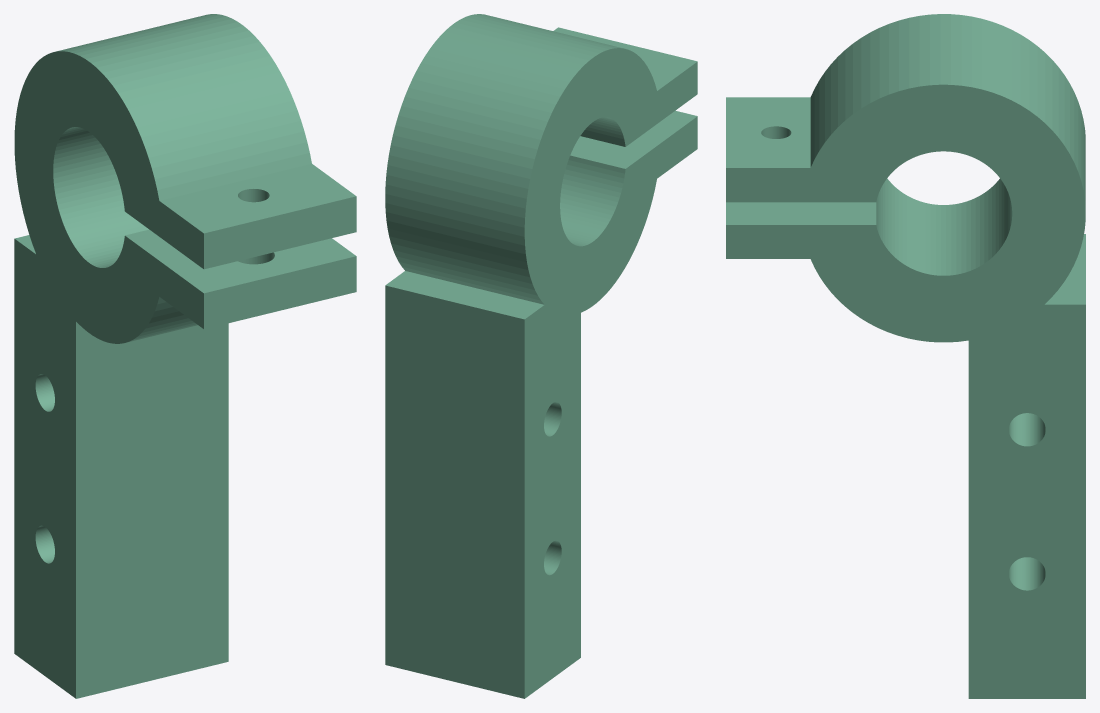
The picture shows the model from 3 angles, left to right: view 1: azimuth 30°, elevation 25°; view 2: azimuth 150°, elevation 25°; view 3: azimuth 270°, elevation 25°; orthographic projection. The views are drawn at different scales.
Visible parts, largest first — view 1: W14_limit_switch_rod_clamp; view 2: W14_limit_switch_rod_clamp; view 3: W14_limit_switch_rod_clamp.
Part boxes in pixels (bbox=[...]): W14_limit_switch_rod_clamp: bbox=[14, 14, 356, 698]; W14_limit_switch_rod_clamp: bbox=[385, 14, 697, 698]; W14_limit_switch_rod_clamp: bbox=[726, 14, 1085, 698].
Size of the model in its own units: 10 by 40.5 by 21.5.
